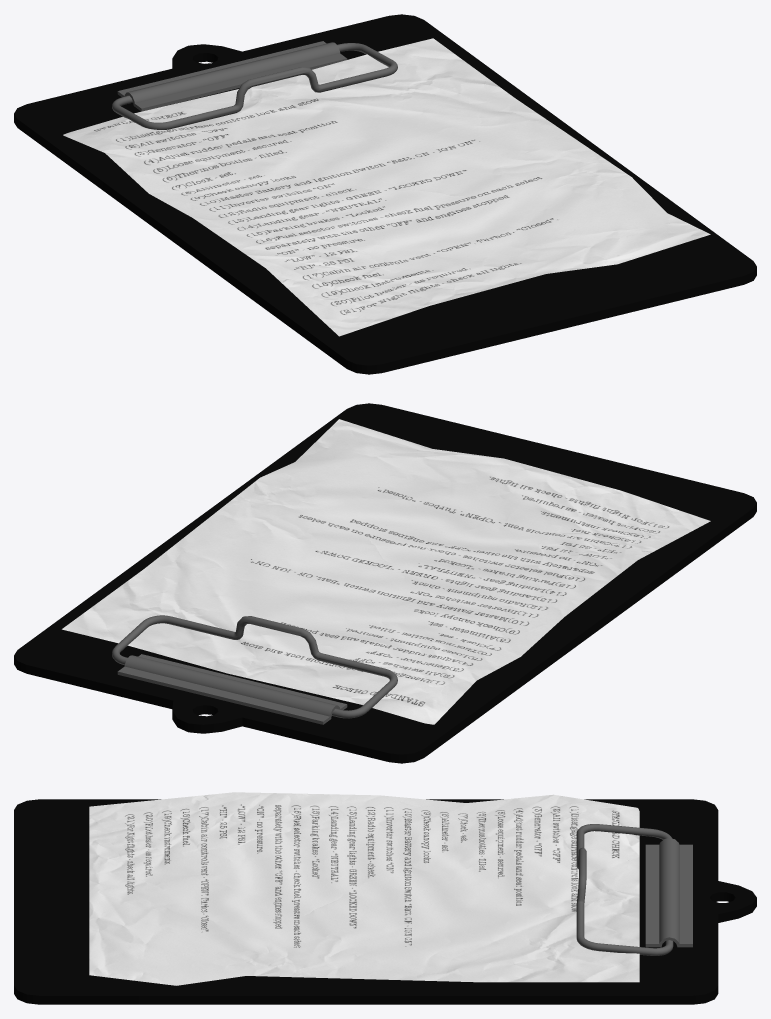
Rendered from MenuCard.dae.
The picture shows the model from 3 angles, top to bottom: view 1: azimuth 30°, elevation 25°; view 2: azimuth 150°, elevation 25°; view 3: azimuth 270°, elevation 25°; orthographic projection.
Parts seen in each view (by area): view 1: group_2, group_0 (×2), group_1; view 2: group_2, group_0 (×2), group_1; view 3: group_2, group_0 (×2), group_1.
Part boxes in pixels (box(x1,y1,x2,y2)): group_2: box(63, 38, 710, 336); group_0 (×2): box(14, 14, 756, 374); group_1: box(112, 43, 397, 129); group_2: box(62, 419, 710, 724); group_0 (×2): box(14, 403, 756, 763); group_1: box(112, 615, 397, 718); group_2: box(89, 792, 639, 985); group_0 (×2): box(14, 799, 756, 1004); group_1: box(576, 824, 673, 955).
Size of the model in its own units: 5.49 by 8.77 by 0.5855.
Materials: 5 (3 with a texture image).
